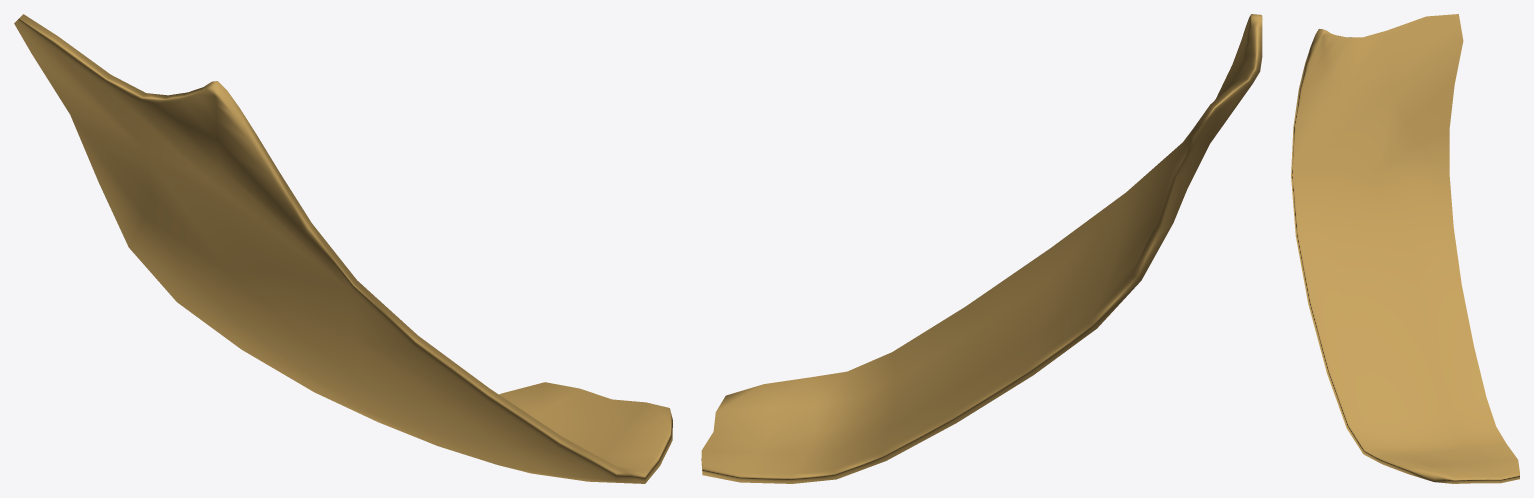
3 views of the same model, side by side, from view 1: azimuth 30°, elevation 25°; view 2: azimuth 150°, elevation 25°; view 3: azimuth 270°, elevation 25° (orthographic). The views are drawn at different scales.
Parts seen in each view (by area): view 1: 左侧盂肱中韧带; view 2: 左侧盂肱中韧带; view 3: 左侧盂肱中韧带.
Boxes of the visible parts, bbox=[...] form: 左侧盂肱中韧带: bbox=[14, 14, 672, 483]; 左侧盂肱中韧带: bbox=[701, 14, 1262, 483]; 左侧盂肱中韧带: bbox=[1291, 14, 1519, 483].
Size of the model in its own units: 0.0397 by 0.0338 by 0.0224.
